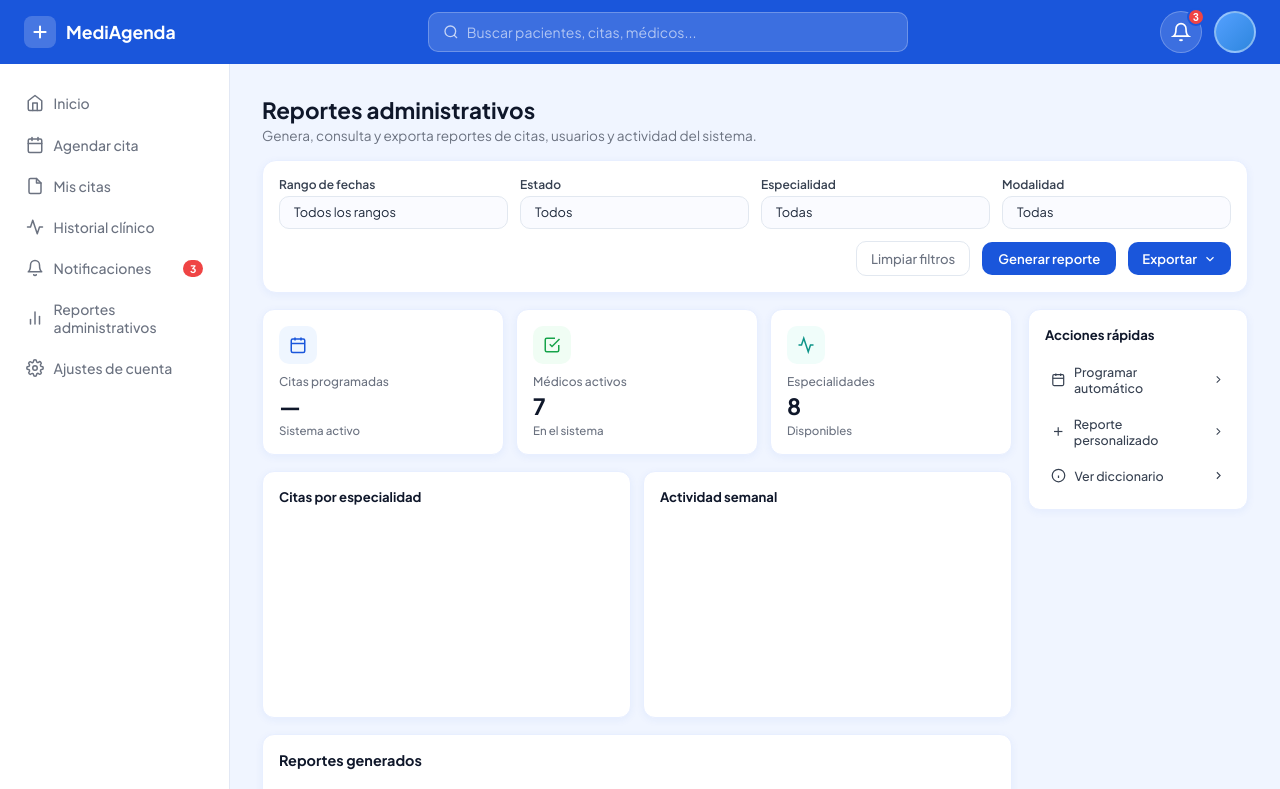
Test: Componente Reportes - MediAgenda › Acciones › debe mostrar alerta al generar reporte exitosamente
The width and height of the screenshot is (1280, 789).
Click the button "Generar reporte".
click(1049, 259)  # box [982,242,1116,275]
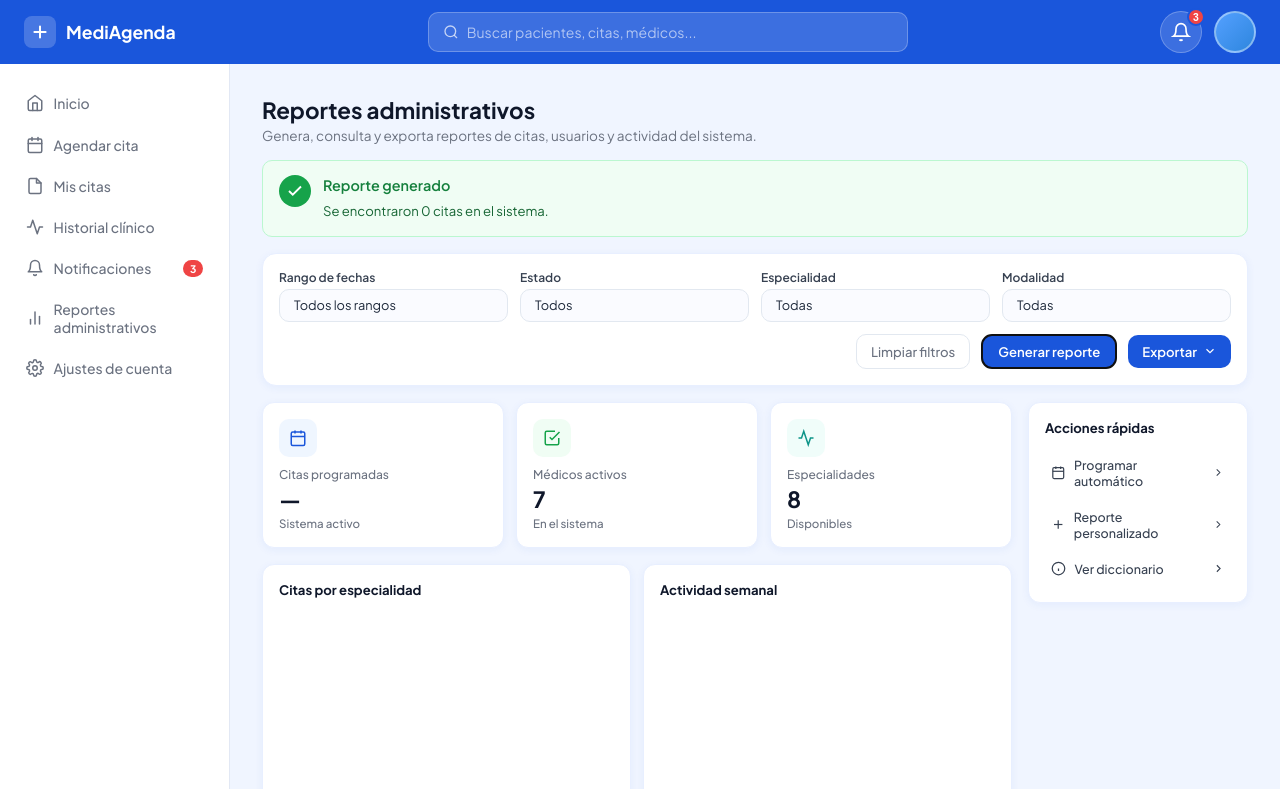
Expected: the text "Reporte generado" is shown, [323,176,450,194]
